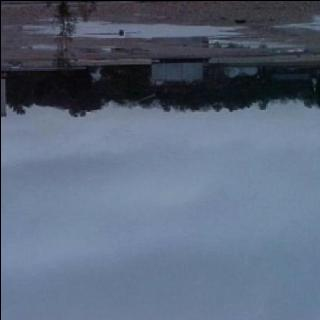Nimbostratus: (0, 129, 309, 320)
